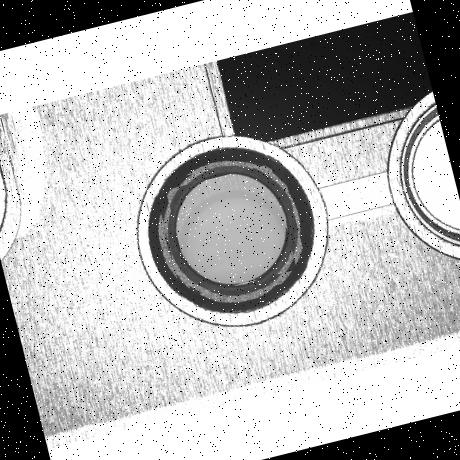Hole: (131, 129, 332, 330)
Hole2: (146, 145, 316, 315)
Hole3: (153, 152, 309, 308)
Hole4: (165, 164, 297, 296)
